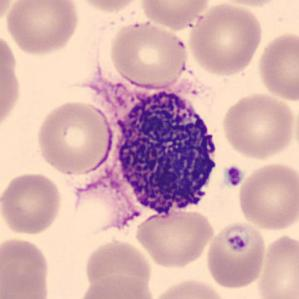Basophil: (105, 78, 225, 226)
Platelets: (221, 221, 253, 253), (223, 164, 244, 189)
RBC: (34, 98, 115, 176), (186, 1, 265, 77), (107, 18, 190, 90), (220, 90, 298, 160), (132, 207, 217, 269), (204, 219, 268, 290), (236, 160, 298, 232), (3, 0, 80, 57), (0, 170, 65, 236), (81, 237, 154, 295), (0, 234, 52, 296), (255, 29, 299, 102), (255, 231, 299, 299), (0, 31, 23, 134), (75, 272, 156, 299), (138, 0, 211, 29), (149, 276, 229, 299), (74, 0, 145, 14), (212, 0, 284, 8), (0, 0, 17, 28)
